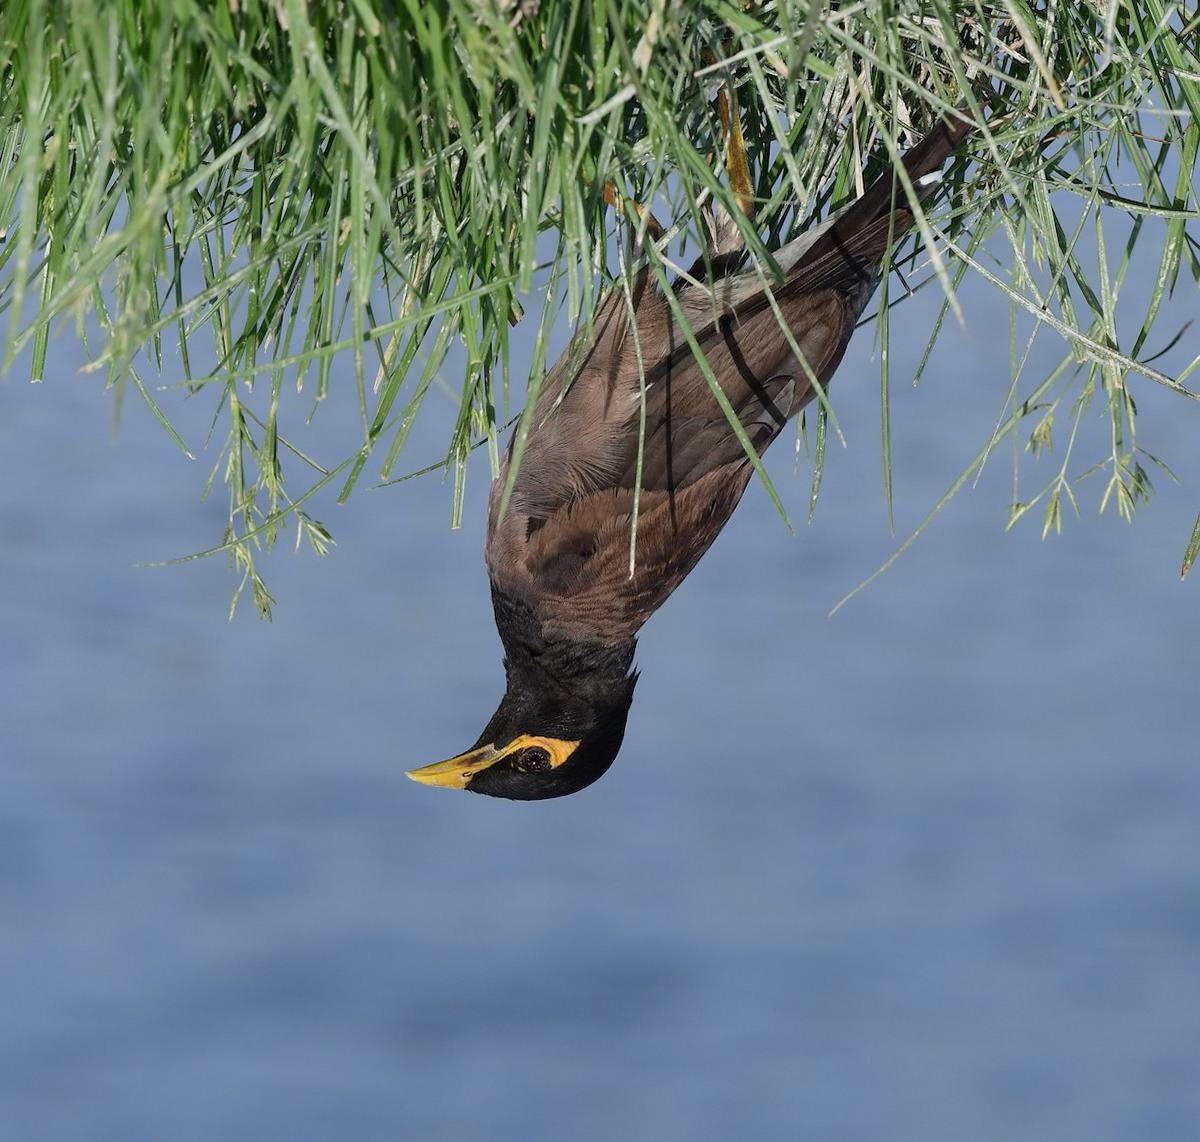myna: (379, 138, 909, 835)
